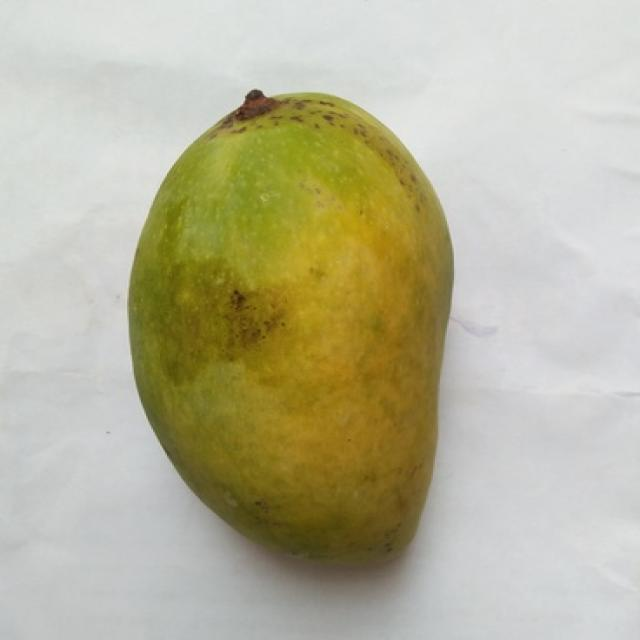Mango: (129, 91, 452, 562)
